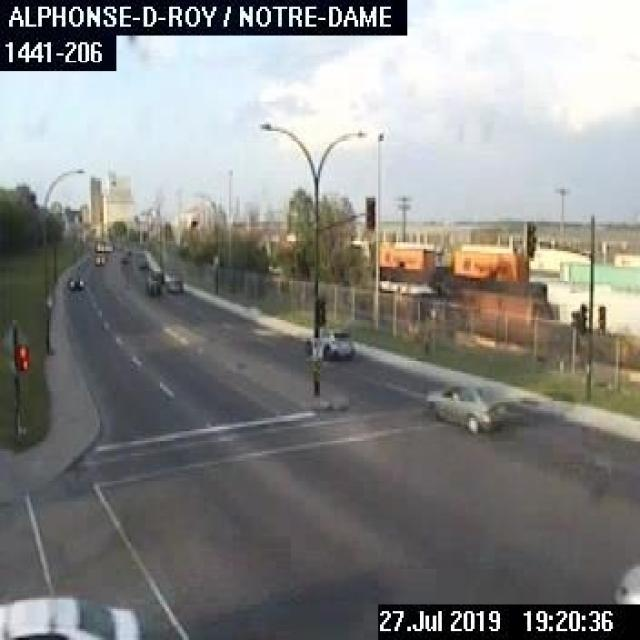vehicle: (0, 593, 142, 638), (420, 376, 515, 438), (302, 326, 356, 362), (611, 564, 638, 602), (162, 267, 186, 294), (64, 267, 87, 291), (142, 272, 164, 296), (91, 249, 107, 267)
